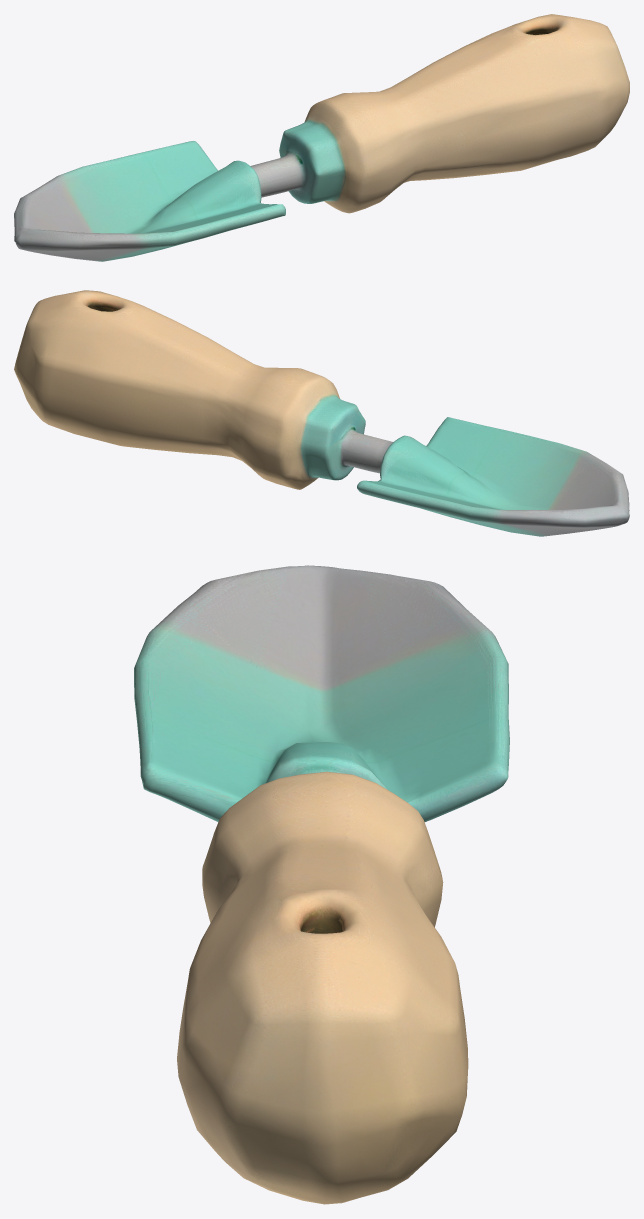
File: item_trowel.glb
3 views of the same model, one above another, from view 1: azimuth 30°, elevation 25°; view 2: azimuth 150°, elevation 25°; view 3: azimuth 270°, elevation 25° (orthographic). The views are drawn at different scales.
Size of the model in its own units: 2 by 0.4249 by 0.5404.
1 material, 1 textured.
